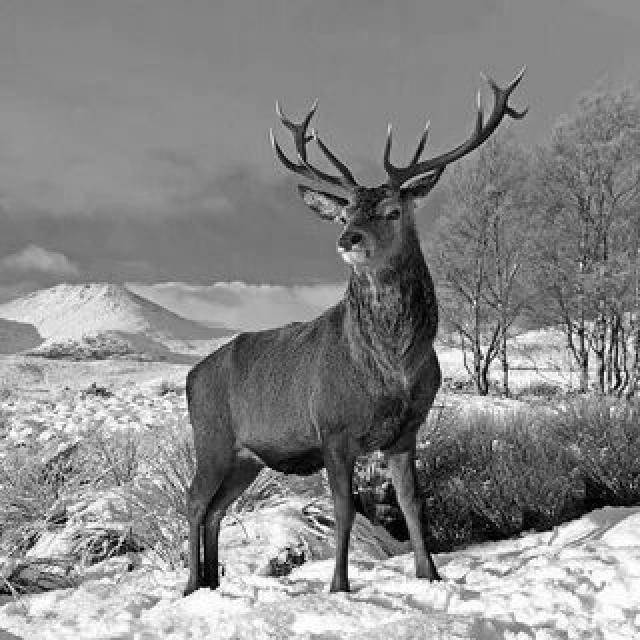Deer: (168, 71, 552, 556)
